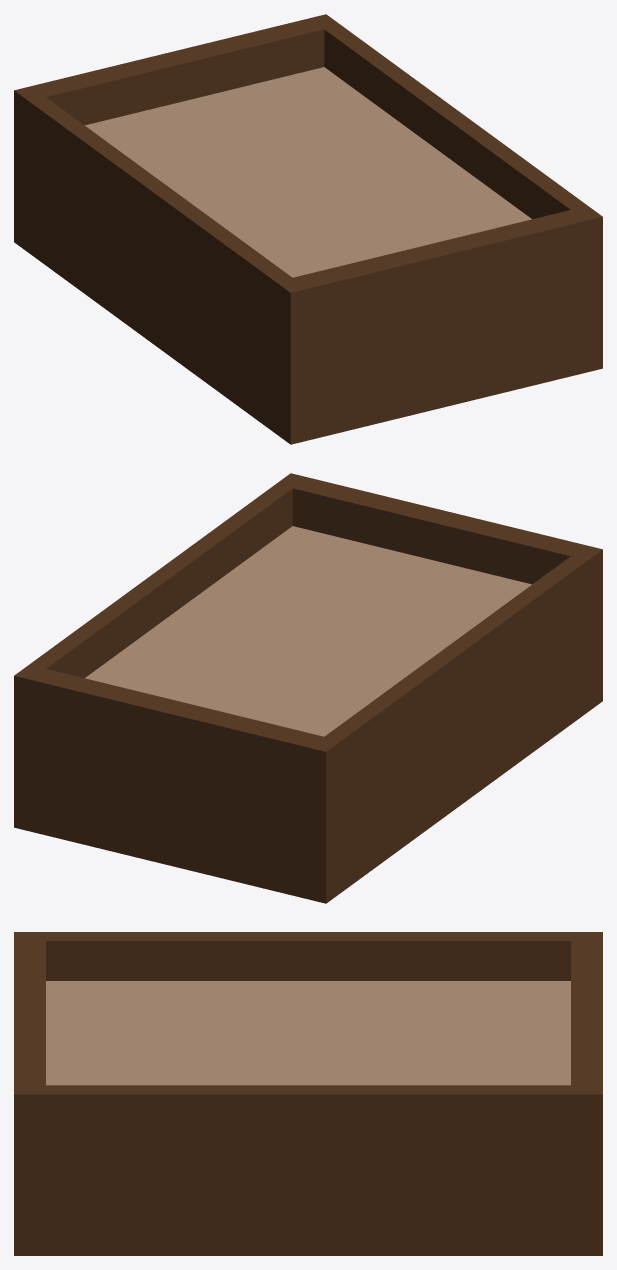
The model's file is wortelbak.fbx.
3 renders of one model, top to bottom at view 1: azimuth 30°, elevation 25°; view 2: azimuth 150°, elevation 25°; view 3: azimuth 270°, elevation 25°, orthographic. The views are drawn at different scales.
Visible parts, largest first — view 1: Cube.001, Cube.002; view 2: Cube.001, Cube.002; view 3: Cube.001, Cube.002.
Part boxes in pixels (left/top/right/bottom): Cube.001: left=14, top=14, right=602, bottom=444; Cube.002: left=85, top=67, right=531, bottom=277; Cube.001: left=14, top=473, right=602, bottom=903; Cube.002: left=85, top=526, right=531, bottom=736; Cube.001: left=14, top=932, right=602, bottom=1255; Cube.002: left=46, top=981, right=570, bottom=1085.
Bounding box in the file's own units: 113 × 52.37 × 173.
